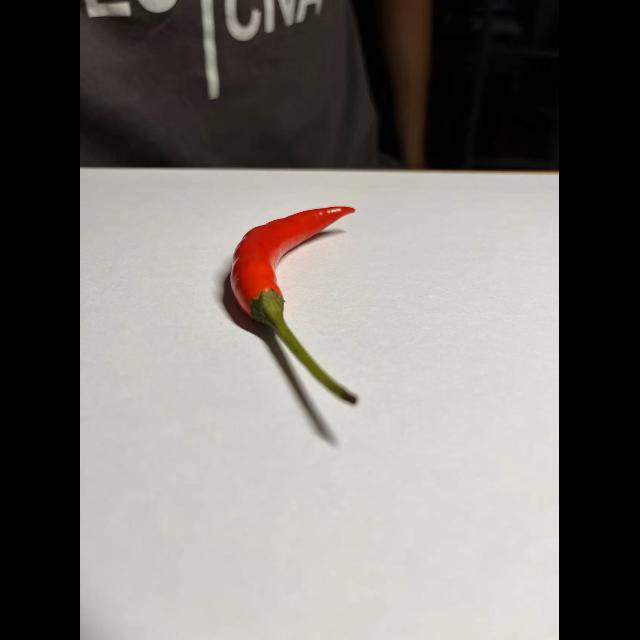chili_pepper: (223, 201, 374, 417)
